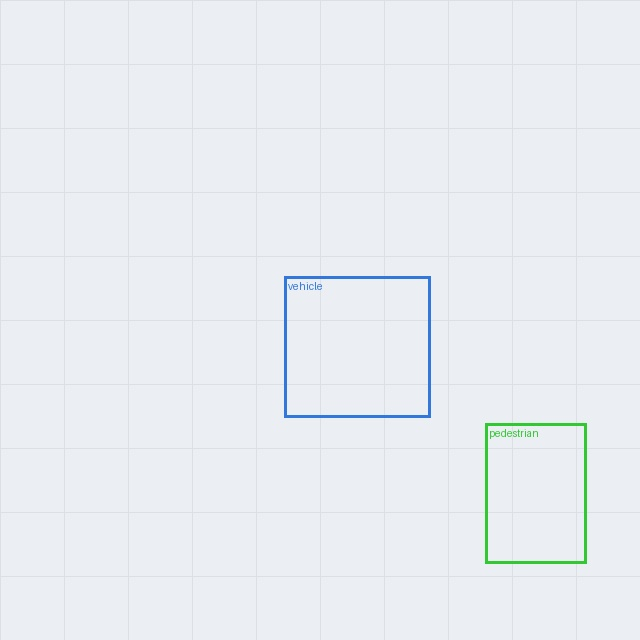pedestrian: (485, 423, 586, 563)
vehicle: (284, 276, 430, 417)
